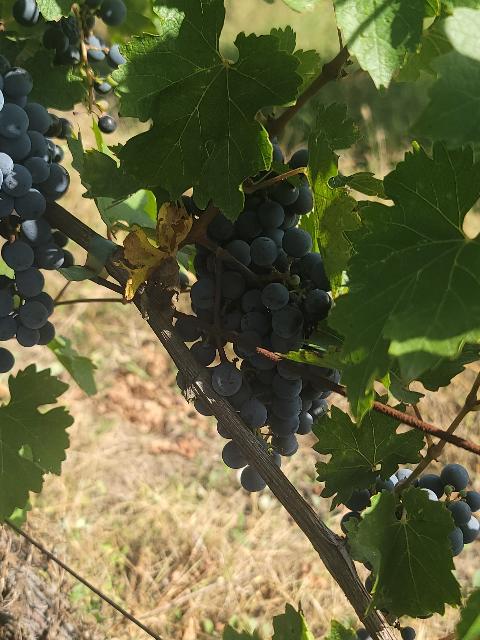grapes: (175, 320, 331, 460), (0, 58, 70, 346), (209, 175, 331, 291), (219, 264, 322, 355), (222, 441, 265, 491), (191, 250, 216, 324), (298, 361, 340, 381), (289, 149, 308, 170), (0, 349, 14, 372), (272, 145, 284, 164)
